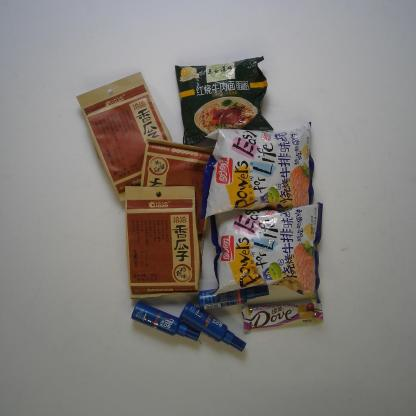Chocolate: (238, 294, 329, 335)
Dried Food: (72, 69, 174, 205), (120, 181, 203, 302), (138, 133, 216, 256)
Instant Noodles: (173, 51, 278, 148)
Personal Hygiene: (176, 300, 249, 354), (127, 298, 202, 346), (195, 280, 273, 315)
Puffed Food: (206, 199, 329, 306), (196, 119, 315, 220)
